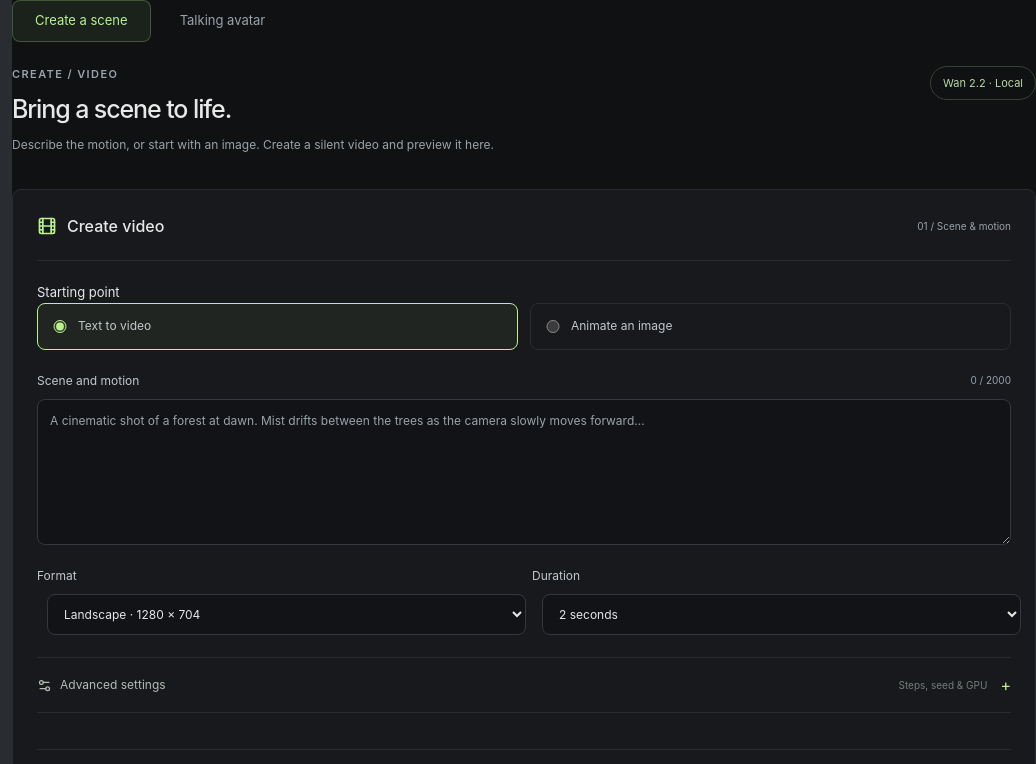
Test: queues text video with visible progress and Stop in place
Step 1. Replace the text in the text box labelled "Scene and motion" with "Mist drifts through a forest" → (524, 472), box [37,399,1011,545]
(page scrolled)
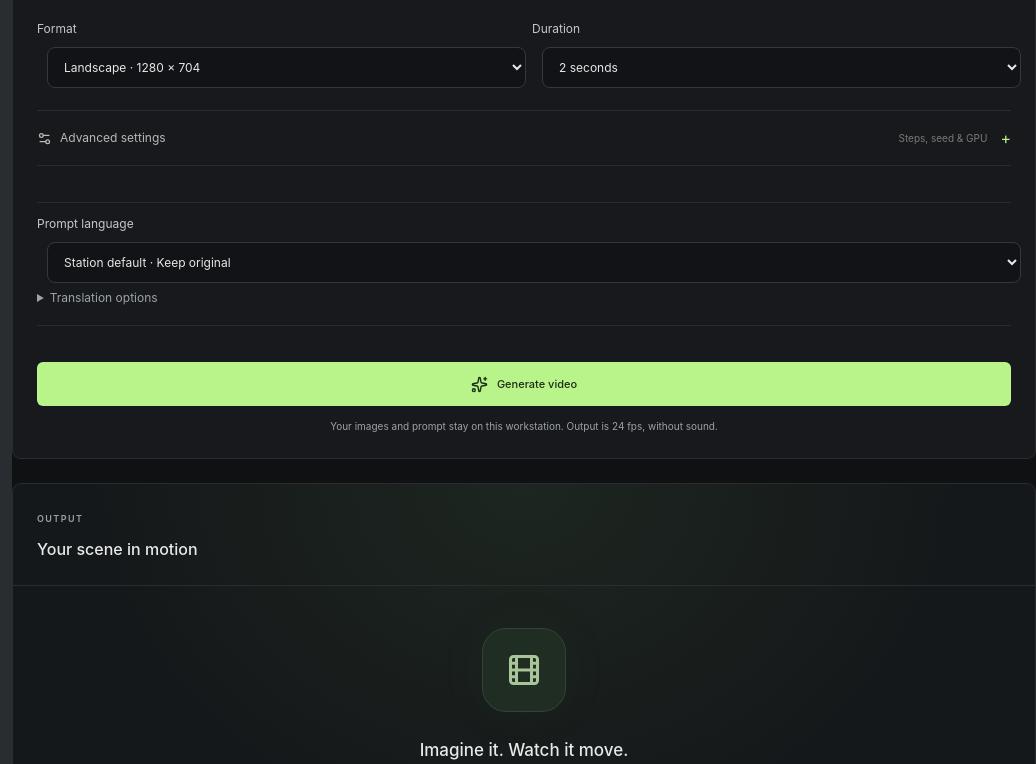
Expected: the button "Generate video" is enabled
Step 2. Click the button "Generate video" → (524, 384), box [37,362,1011,406]
(page scrolled)
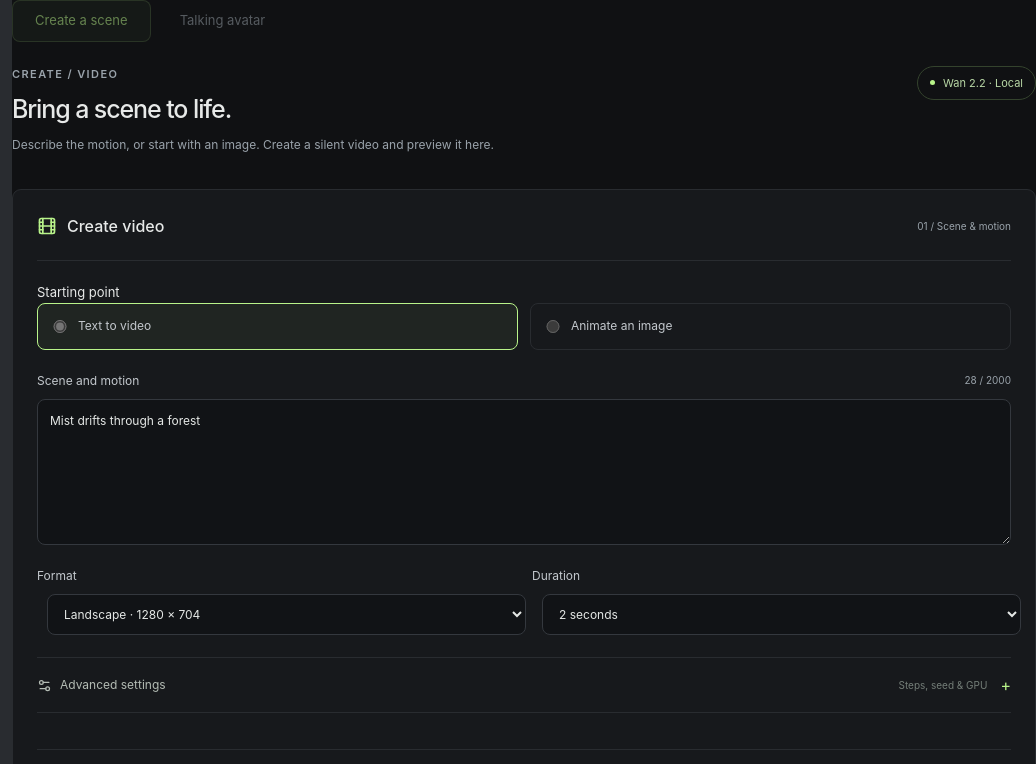
Expected: the button "Talking avatar" is disabled, [157,0,288,42]
